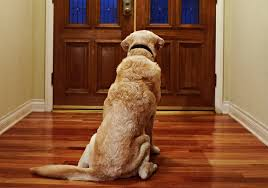dog_sitting: (77, 28, 166, 185)
